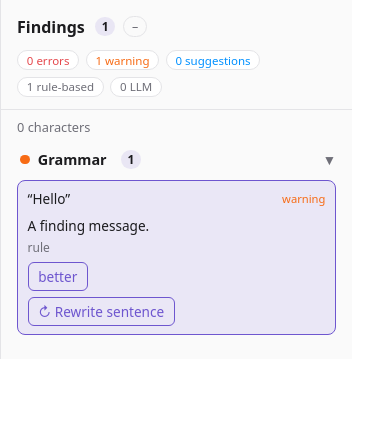
Test: Sidebar surfaces embed replacement failures (B43 C1) › a refused suggestion apply renders embedReplaceFailed and keeps the suggestions on screen
Click the button "better" at coordinates (58, 276), box [28,262,88,291]
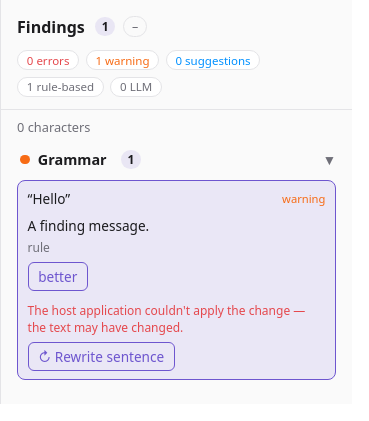
Expected: the text "The host application couldn't apply the change — the text may have changed." is shown, [28,302,325,336]
